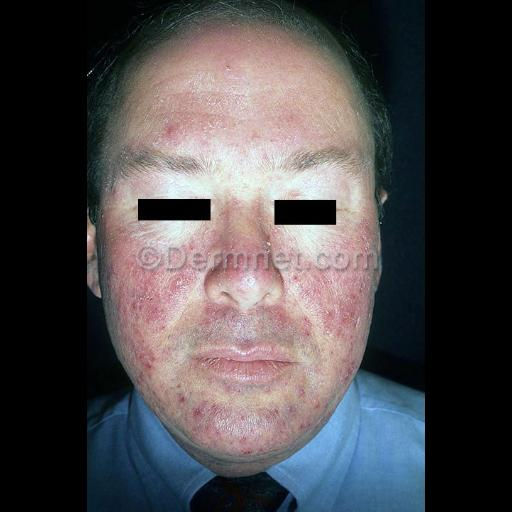Skin_Lesion: (125, 276, 167, 332), (171, 252, 201, 296), (320, 301, 364, 329), (198, 403, 226, 443), (265, 404, 293, 430), (163, 121, 179, 145), (178, 388, 188, 406)
